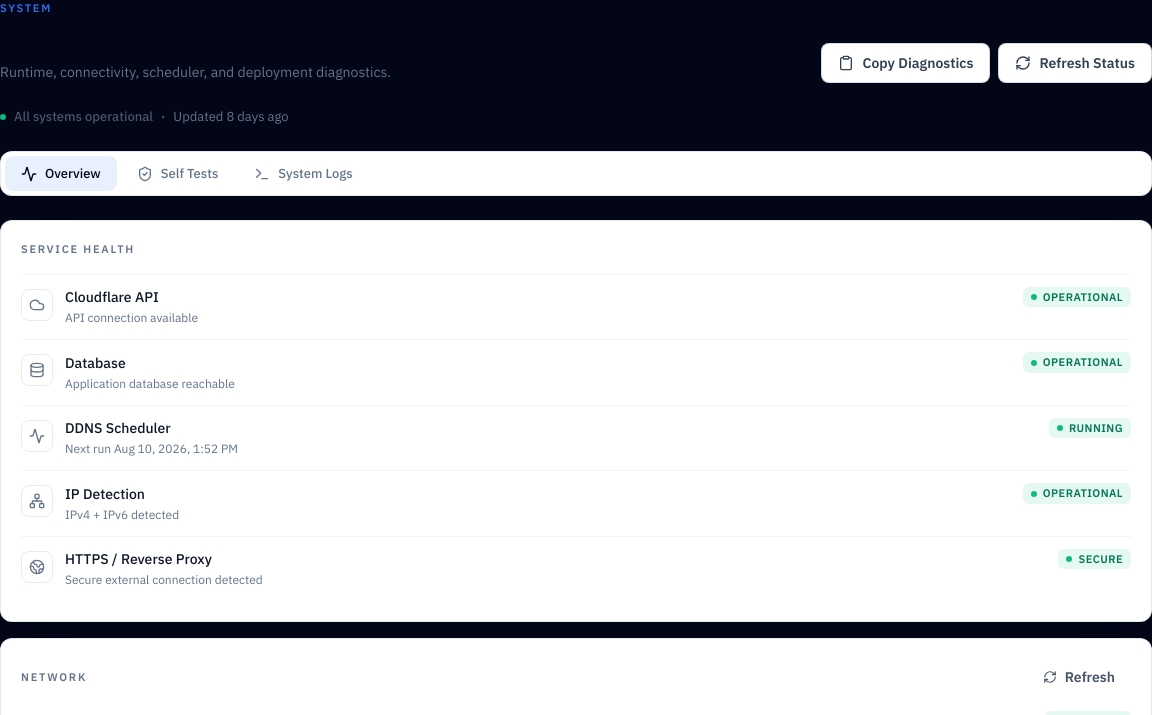
Test: System page › refreshes status without blanking existing content
The width and height of the screenshot is (1152, 715).
Click the button "Refresh Status" at [1075, 63], box x1=998 y1=43 x2=1151 y2=83
(page scrolled)
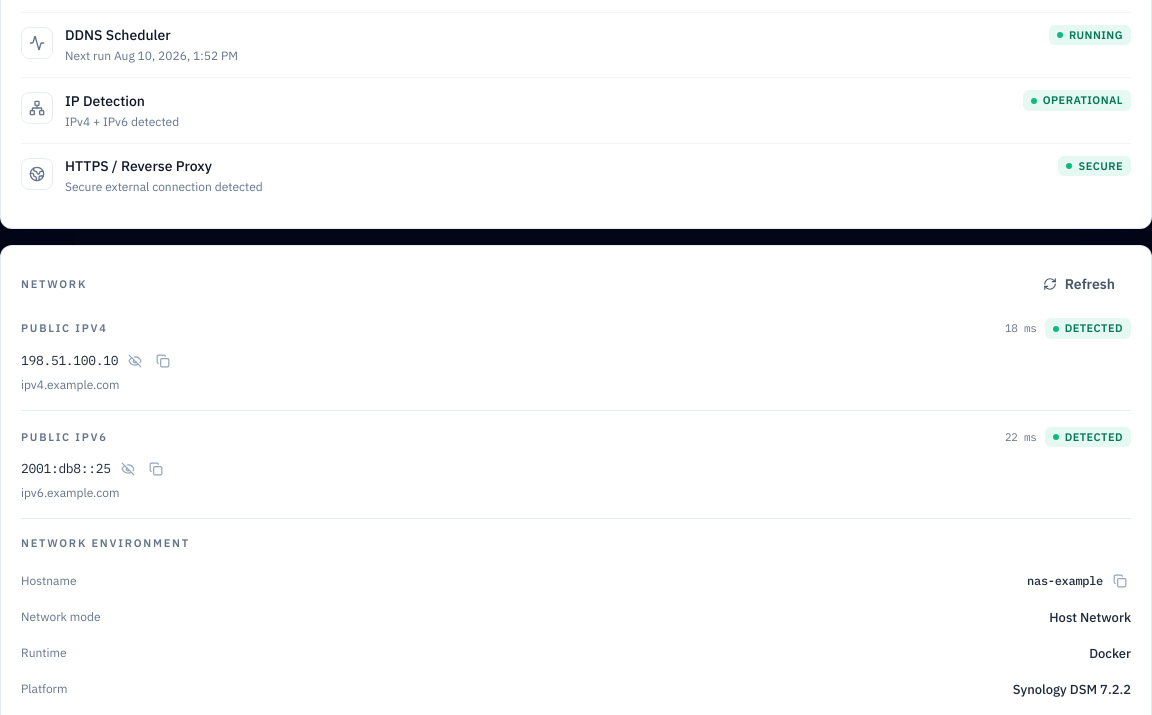
Now the text "198.51.100.10" is shown, box x1=21 y1=351 x2=118 y2=370
